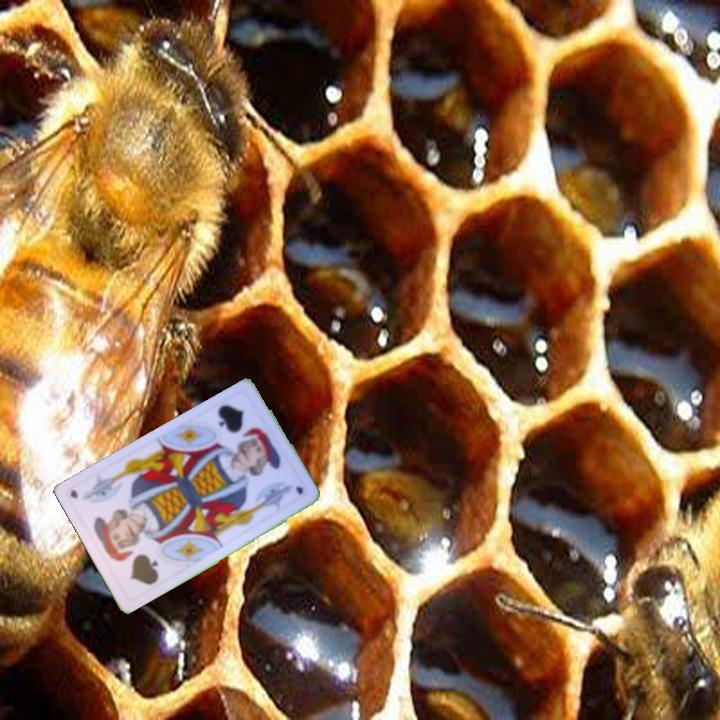s_j.png: (199, 388, 280, 473), (96, 517, 177, 601)
